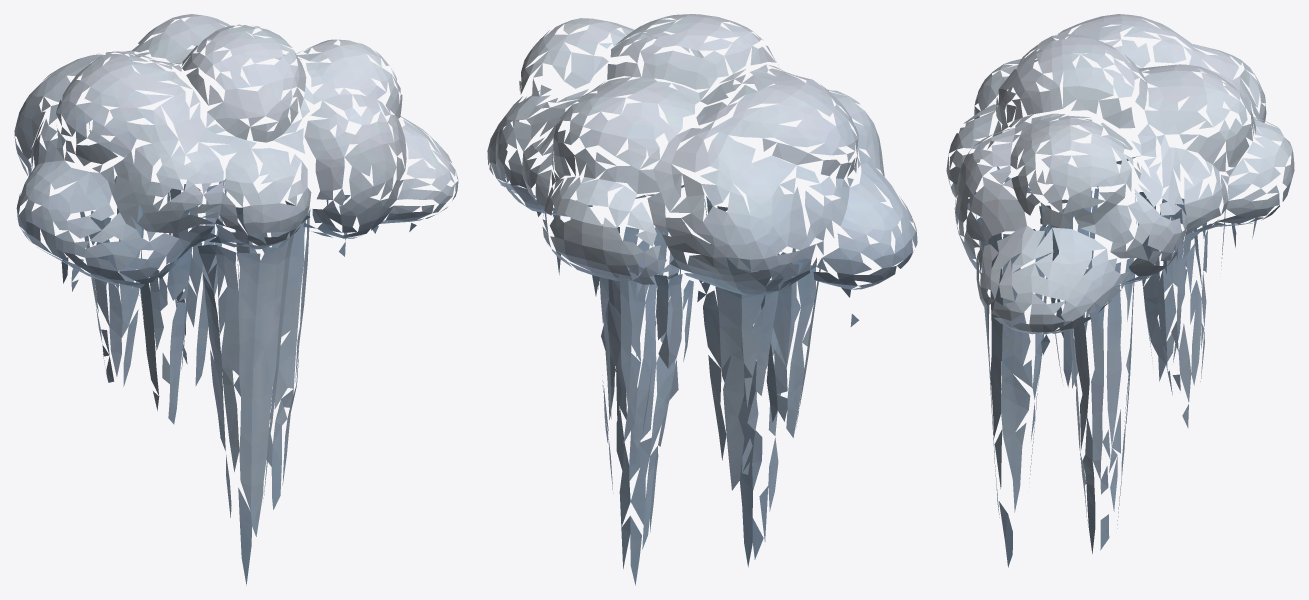
File: spike_cloud.glb
The picture shows the model from 3 angles, left to right: view 1: azimuth 30°, elevation 25°; view 2: azimuth 150°, elevation 25°; view 3: azimuth 270°, elevation 25°; orthographic projection. The views are drawn at different scales.
Parts seen in each view (by area): view 1: world; view 2: world; view 3: world.
Boxes of the visible parts, left/top/right/bottom form: world: left=14, top=14, right=458, bottom=585; world: left=487, top=14, right=917, bottom=585; world: left=946, top=14, right=1294, bottom=567.
Size of the model in its own units: 0.7475 by 0.934 by 0.5514.
1 material, 1 textured.
